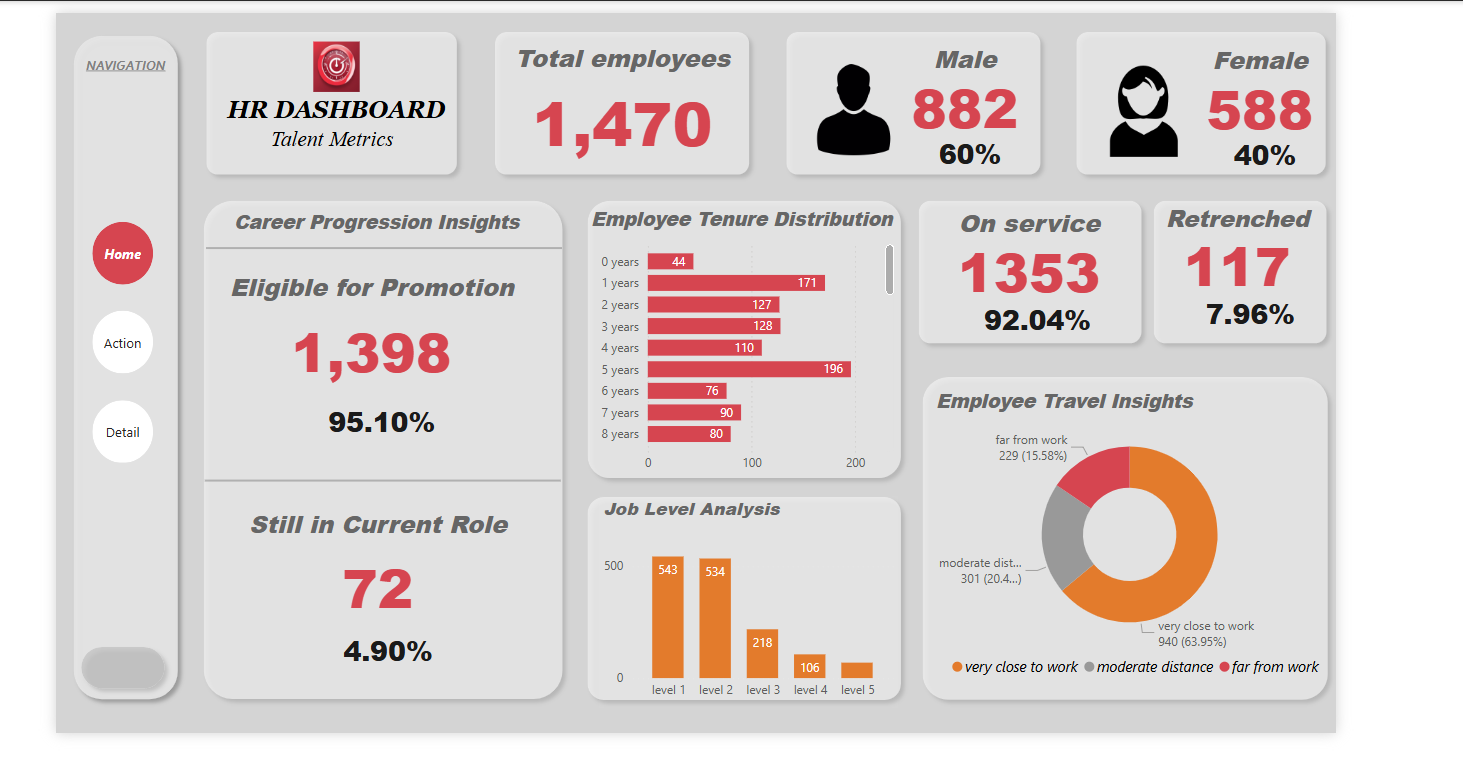

Layout of this report page (visuals, bound fields, positions):
{"tool":"powerbi","page":{"name":"Home","canvas":[1280,720],"ordinal":0},"visuals":[{"type":"shape","box":[8.1,14,122.1,681.4],"z":0},{"type":"card","title":"Eligible for Promotion","fields":{"Values":["All measure.not due"]},"box":[158.8,256.5,314,127.6],"z":0,"group":"g2"},{"type":"card","title":"Still in Current Role","fields":{"Values":["All measure.due for promotion"]},"box":[165.6,493.5,314,124.2],"z":0,"group":"g1"},{"type":"shape","box":[141.9,10.5,268.6,160.5],"z":1000},{"type":"card","title":"Male","fields":{"Values":["All measure.% not due"]},"box":[169.2,346.3,314,127.6],"z":1000,"group":"g2"},{"type":"card","title":"Male","fields":{"Values":["All measure.% due"]},"box":[175.8,576.3,314.2,124.8],"z":1000,"group":"g1"},{"type":"shape","box":[430.2,10.5,272.1,160.5],"z":2000},{"type":"shape","box":[720.9,10.5,272.1,160.5],"z":3000},{"type":"shape","box":[1011.6,10.5,267.4,160.5],"z":4000},{"type":"shape","box":[138.4,179.1,376.7,516.3],"z":5000},{"type":"shape","box":[522.1,179.1,331.4,295.3],"z":6000},{"type":"shape","box":[853.5,179.1,240.7,160.5],"z":7000},{"type":"shape","box":[1088.4,179.1,190.7,160.5],"z":8000},{"type":"shape","box":[522.1,474.4,331.4,220.9],"z":9000},{"type":"shape","box":[857,354.7,423.3,340.7],"z":10000},{"type":"image","box":[252.3,23.3,55.8,60.5],"z":11000},{"type":"textbox","box":[150,77.9,260.5,45.3],"z":11000,"group":"g3"},{"type":"card","title":"Total employees","fields":{"Values":["All measure.Total emp"]},"box":[437.2,27.9,258.1,126.7],"z":12000},{"type":"textbox","box":[169.8,109.3,212.8,43],"z":12000,"group":"g3"},{"type":"image","box":[1037.2,46.5,101.2,103.5],"z":13000},{"type":"card","title":"Retrenched","fields":{"Values":["All measure.retrenched"]},"box":[1091.7,188.4,180.2,91.3],"z":13000,"group":"g7"},{"type":"card","title":"On service","fields":{"Values":["All measure.On service"]},"box":[859.1,193,229.1,94.1],"z":13000,"group":"g6"},{"type":"image","box":[743,46.5,110.5,101.2],"z":14000},{"type":"card","title":"Male","fields":{"Values":["All measure.% retrenched"]},"box":[1138.2,252.9,113.7,96],"z":14000,"group":"g7"},{"type":"card","title":"Male","fields":{"Values":["All measure.% service"]},"box":[911.2,261.8,140.7,94.2],"z":14000,"group":"g6"},{"type":"card","title":"Male","fields":{"Values":["All measure.male"]},"box":[838.4,29.1,140.7,94.2],"z":15000,"group":"g4"},{"type":"group","id":"g1","title":"Group 1","box":[165.6,493.5,324.4,207.6],"z":15000},{"type":"card","title":"Male","fields":{"Values":["All measure.% male"]},"box":[843.1,95.4,140.7,94.2],"z":16000,"group":"g4"},{"type":"group","id":"g2","title":"Group 1","box":[158.8,256.5,324.4,217.4],"z":16000},{"type":"card","title":"Female","fields":{"Values":["All measure.female"]},"box":[1134.2,29.8,140.7,94.2],"z":17000,"group":"g5"},{"type":"shape","box":[148.6,450.3,356.1,35.2],"z":17000},{"type":"card","title":"Male","fields":{"Values":["All measure.% female"]},"box":[1138.9,96.1,140.7,94.2],"z":18000,"group":"g5"},{"type":"barChart","title":"Employee Tenure Distribution","fields":{"Category":["HR Analytics Data.Service Year"],"Y":["All measure.Total emp"]},"box":[529.7,192.8,313,275.6],"z":18000},{"type":"columnChart","title":"Job Level Analysis","fields":{"Y":["All measure.Total emp"],"Category":["HR Analytics Data.Job Levels"]},"box":[543,482.6,300,212.8],"z":19000},{"type":"group","id":"g3","title":"Group 4","box":[150,77.9,260.5,74.4],"z":20000},{"type":"group","id":"g4","title":"Group 2","box":[838.4,29.1,145.3,160.5],"z":21000},{"type":"group","id":"g5","title":"Group 3","box":[1134.2,29.8,145.3,160.5],"z":22000},{"type":"group","id":"g6","title":"Group 5","box":[859.1,193,229.1,163],"z":23000},{"type":"group","id":"g7","title":"Group 5","box":[1091.7,188.4,180.2,160.5],"z":24000},{"type":"donutChart","title":"Employee Travel Insights","fields":{"Category":["HR Analytics Data.Travel distance"],"Y":["All measure.Total emp"]},"box":[874.4,373.3,397.7,300],"z":25000},{"type":"textbox","box":[5.8,37.2,126.7,31.4],"z":26000},{"type":"shape","box":[16.3,624.4,101.2,59.3],"z":27000},{"type":"pageNavigator","title":"IUV","box":[36.3,208.7,61.2,243.9],"z":28002},{"type":"shape","box":[149.7,217.8,356.1,35.2],"z":28003},{"type":"textbox","box":[153.1,190.5,335.7,49.9],"z":28004}]}

Visuals, with their boxes on the page's 1280x720 design canvas (x1, y1, x2, y2). These are canvas units, not pixel positions in the 1463x760 screenshot, which may show the page scaled, cropped or inside an application window:
shape: rect(8, 14, 130, 695)
"Eligible for Promotion" card: rect(159, 256, 473, 384)
"Still in Current Role" card: rect(166, 494, 480, 618)
shape: rect(142, 10, 410, 171)
"Male" card: rect(169, 346, 483, 474)
"Male" card: rect(176, 576, 490, 701)
shape: rect(430, 10, 702, 171)
shape: rect(721, 10, 993, 171)
shape: rect(1012, 10, 1279, 171)
shape: rect(138, 179, 515, 695)
shape: rect(522, 179, 854, 474)
shape: rect(854, 179, 1094, 340)
shape: rect(1088, 179, 1279, 340)
shape: rect(522, 474, 854, 695)
shape: rect(857, 355, 1280, 695)
image: rect(252, 23, 308, 84)
textbox: rect(150, 78, 410, 123)
"Total employees" card: rect(437, 28, 695, 155)
textbox: rect(170, 109, 383, 152)
image: rect(1037, 46, 1138, 150)
"Retrenched" card: rect(1092, 188, 1272, 280)
"On service" card: rect(859, 193, 1088, 287)
image: rect(743, 46, 854, 148)
"Male" card: rect(1138, 253, 1252, 349)
"Male" card: rect(911, 262, 1052, 356)
"Male" card: rect(838, 29, 979, 123)
"Group 1" group: rect(166, 494, 490, 701)
"Male" card: rect(843, 95, 984, 190)
"Group 1" group: rect(159, 256, 483, 474)
"Female" card: rect(1134, 30, 1275, 124)
shape: rect(149, 450, 505, 486)
"Male" card: rect(1139, 96, 1280, 190)
"Employee Tenure Distribution" barChart: rect(530, 193, 843, 468)
"Job Level Analysis" columnChart: rect(543, 483, 843, 695)
"Group 4" group: rect(150, 78, 410, 152)
"Group 2" group: rect(838, 29, 984, 190)
"Group 3" group: rect(1134, 30, 1280, 190)
"Group 5" group: rect(859, 193, 1088, 356)
"Group 5" group: rect(1092, 188, 1272, 349)
"Employee Travel Insights" donutChart: rect(874, 373, 1272, 673)
textbox: rect(6, 37, 132, 69)
shape: rect(16, 624, 118, 684)
"IUV" pageNavigator: rect(36, 209, 98, 453)
shape: rect(150, 218, 506, 253)
textbox: rect(153, 190, 489, 240)
